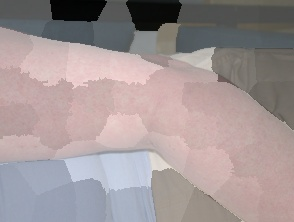SJS-TEN: (0, 20, 294, 222)
